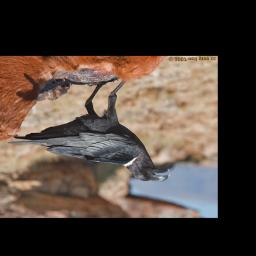Crow: (7, 77, 170, 185)
